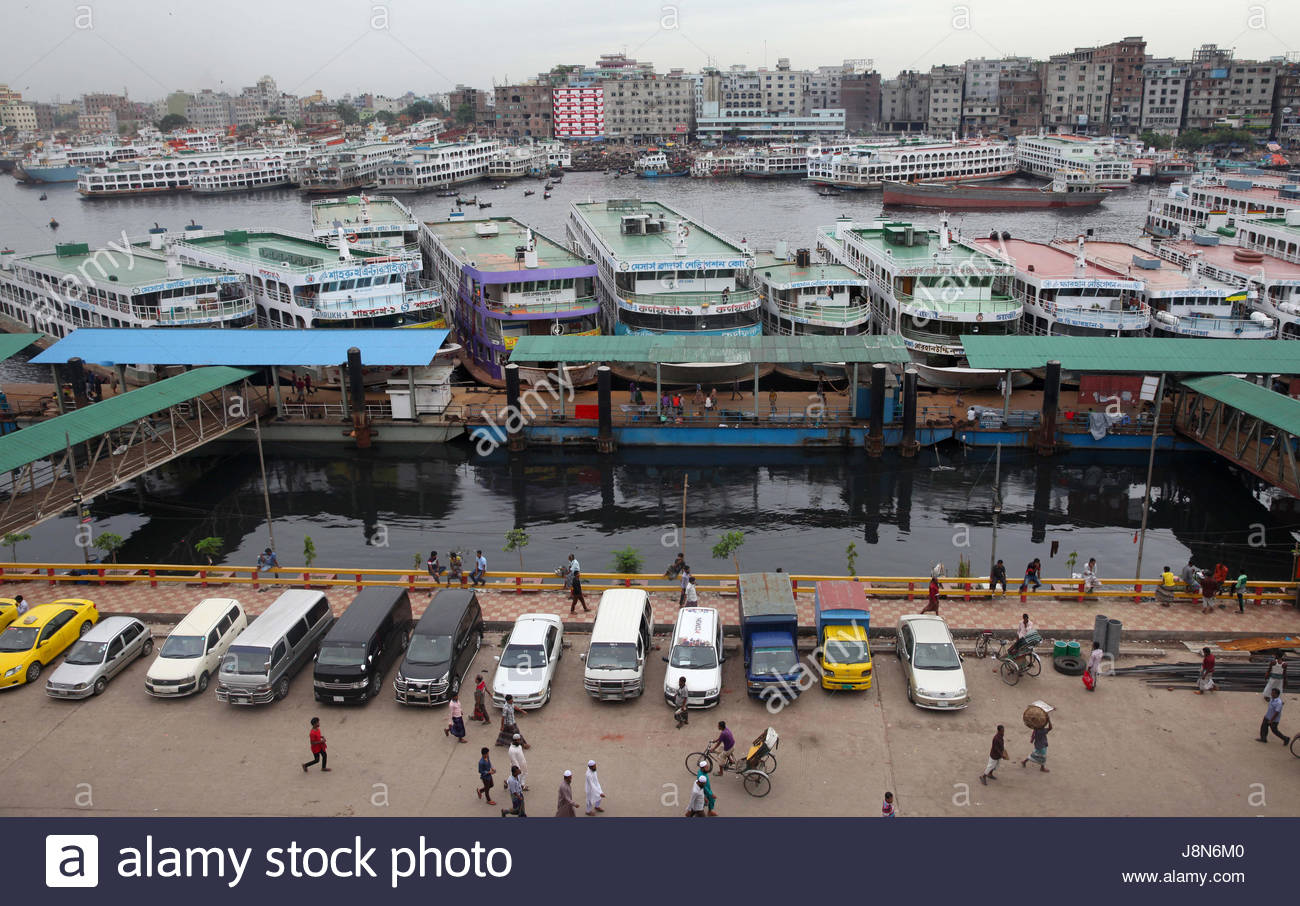boat: (49, 217, 61, 230)
car: (215, 588, 331, 709), (311, 582, 409, 707), (392, 589, 486, 710), (142, 599, 247, 700), (41, 614, 152, 699), (1, 600, 102, 692), (579, 586, 656, 705), (488, 614, 567, 713), (897, 613, 969, 714), (662, 607, 720, 716), (1, 595, 23, 629)
launch: (567, 196, 774, 391), (131, 203, 455, 325), (813, 211, 1027, 388), (417, 220, 611, 389), (1, 234, 263, 331), (983, 235, 1147, 386), (1051, 239, 1279, 341), (754, 236, 877, 385), (1165, 238, 1300, 341), (879, 168, 1123, 214), (79, 148, 270, 203), (1142, 193, 1300, 252), (808, 146, 1017, 189), (372, 135, 509, 199), (308, 196, 427, 263), (1017, 131, 1134, 192), (295, 138, 406, 199), (188, 156, 311, 198), (20, 146, 138, 184), (488, 148, 563, 184), (749, 143, 809, 178), (694, 149, 744, 174), (631, 159, 677, 178)
rickshaw: (686, 730, 780, 800), (973, 627, 1045, 689)
truck: (737, 573, 802, 703), (811, 577, 874, 695)
